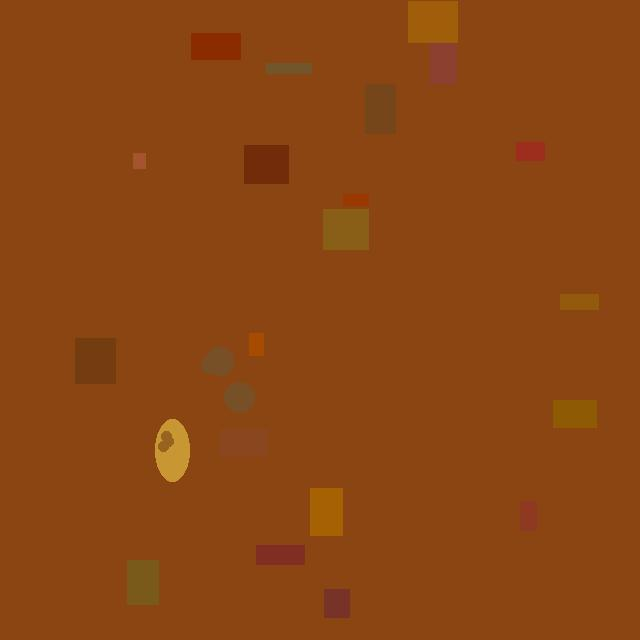damaged_crop: (154, 419, 190, 481)
pest_damage: (195, 344, 253, 436)
